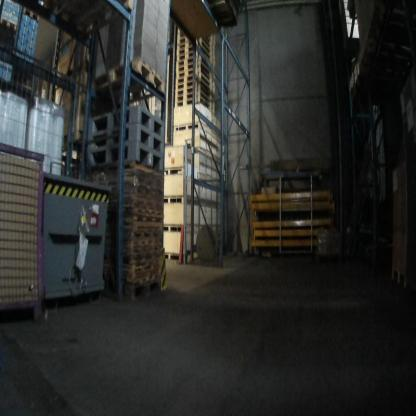pallet: (95, 58, 165, 104), (104, 278, 160, 302), (1, 18, 17, 32)
small_load_carrier: (16, 39, 28, 52), (18, 27, 29, 41), (20, 19, 30, 33), (26, 43, 35, 58), (28, 24, 38, 37), (27, 33, 37, 46)
stillage: (3, 143, 54, 325)
